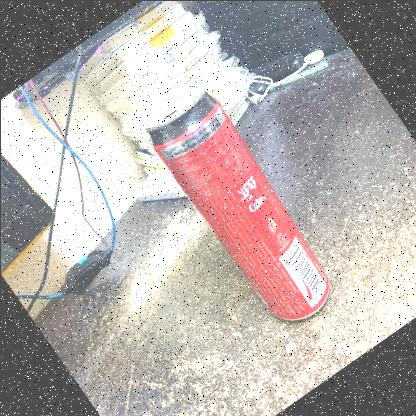Can: (123, 66, 361, 348)
